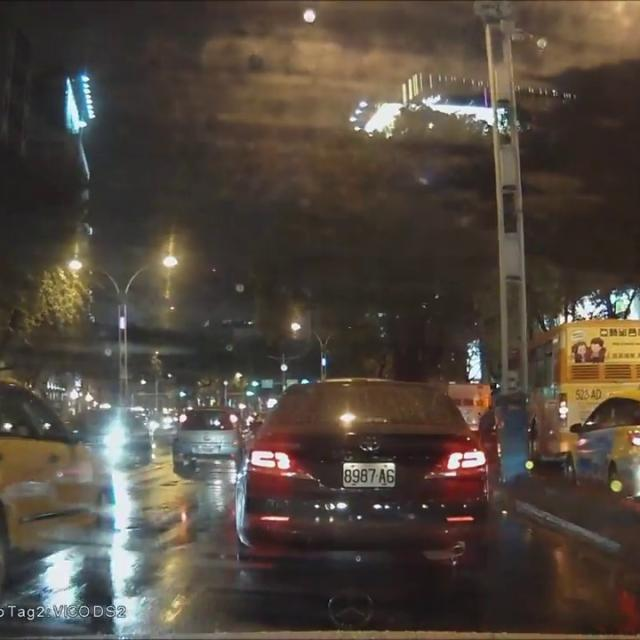Car: (239, 378, 497, 579), (0, 360, 116, 572), (557, 389, 639, 503), (167, 402, 259, 478), (63, 399, 156, 469)
